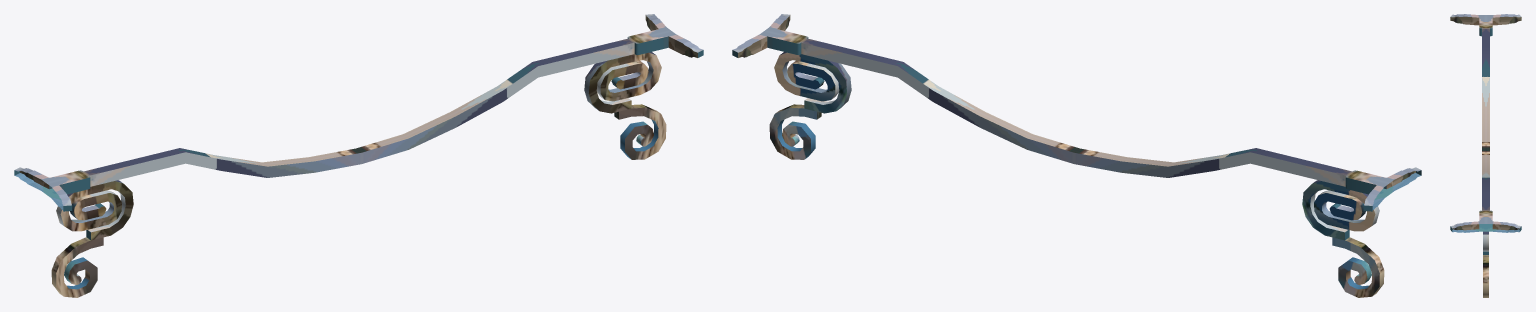
The model's file is FenceA03.FBX.
3 views of the same model, side by side, from view 1: azimuth 30°, elevation 25°; view 2: azimuth 150°, elevation 25°; view 3: azimuth 270°, elevation 25° (orthographic). The views are drawn at different scales.
Visible parts, largest first — view 1: Object011; view 2: Object011; view 3: Object011.
Part boxes in pixels (<box>): Object011: <box>14,14,703,297</box>; Object011: <box>732,14,1421,297</box>; Object011: <box>1450,14,1521,297</box>.
Bounding box in the file's own units: 275 × 49.32 × 38.78.
